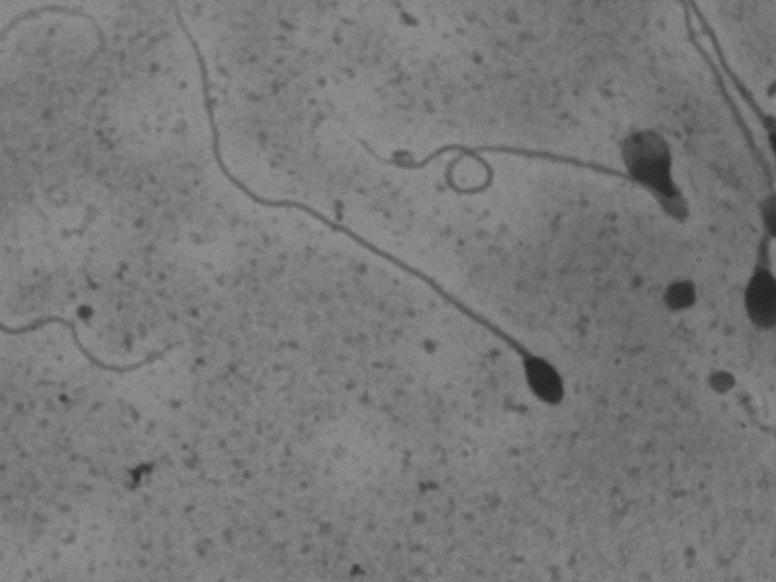Normal: (158, 12, 584, 427)
